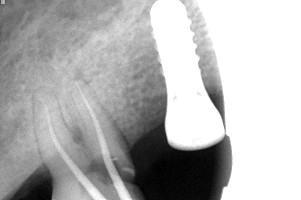Endo-Periodontal Lesion: (69, 124, 83, 145)
Furcation Involvement: (74, 68, 85, 81)
